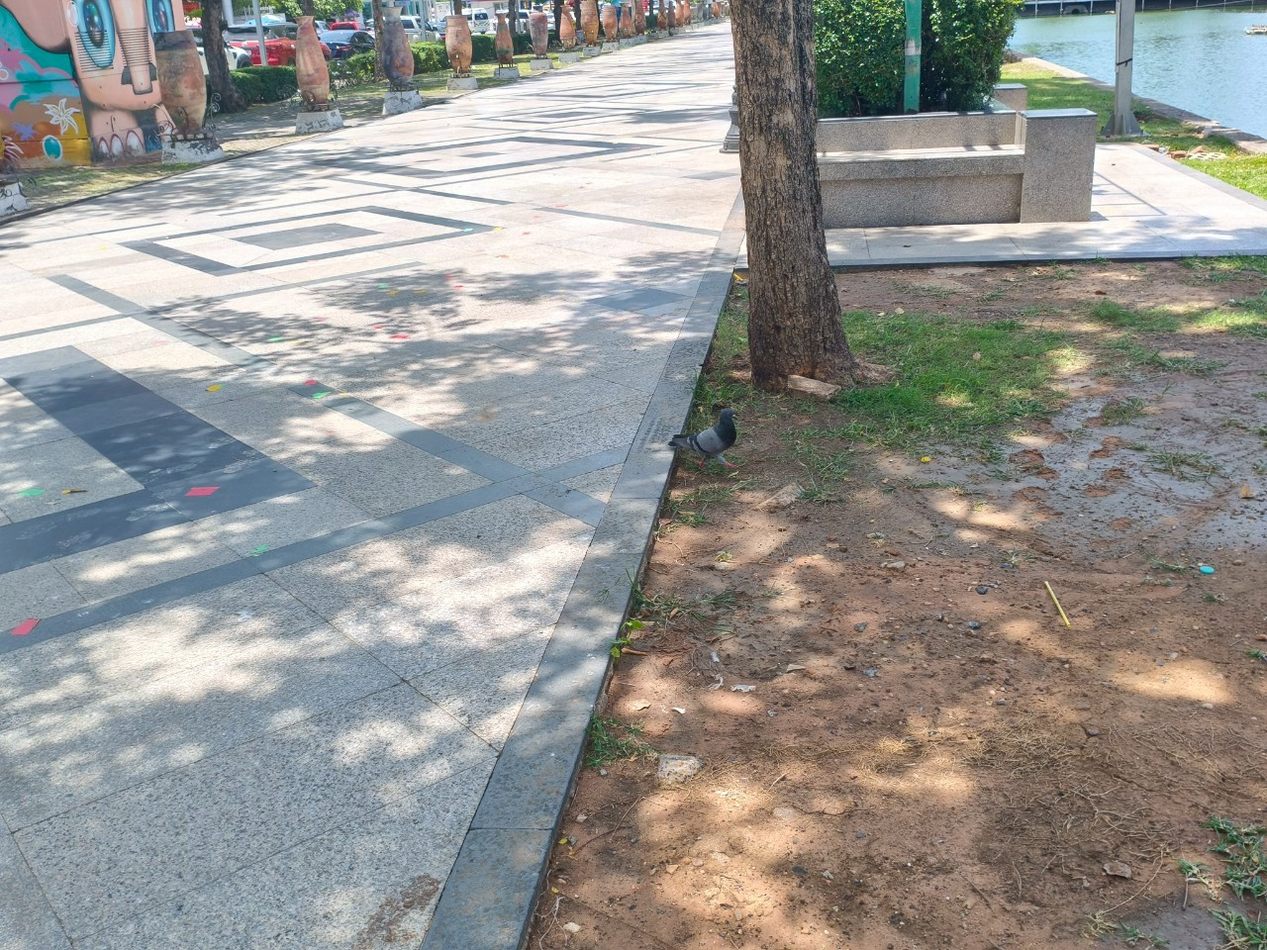Pigeon: (671, 408, 737, 459)
